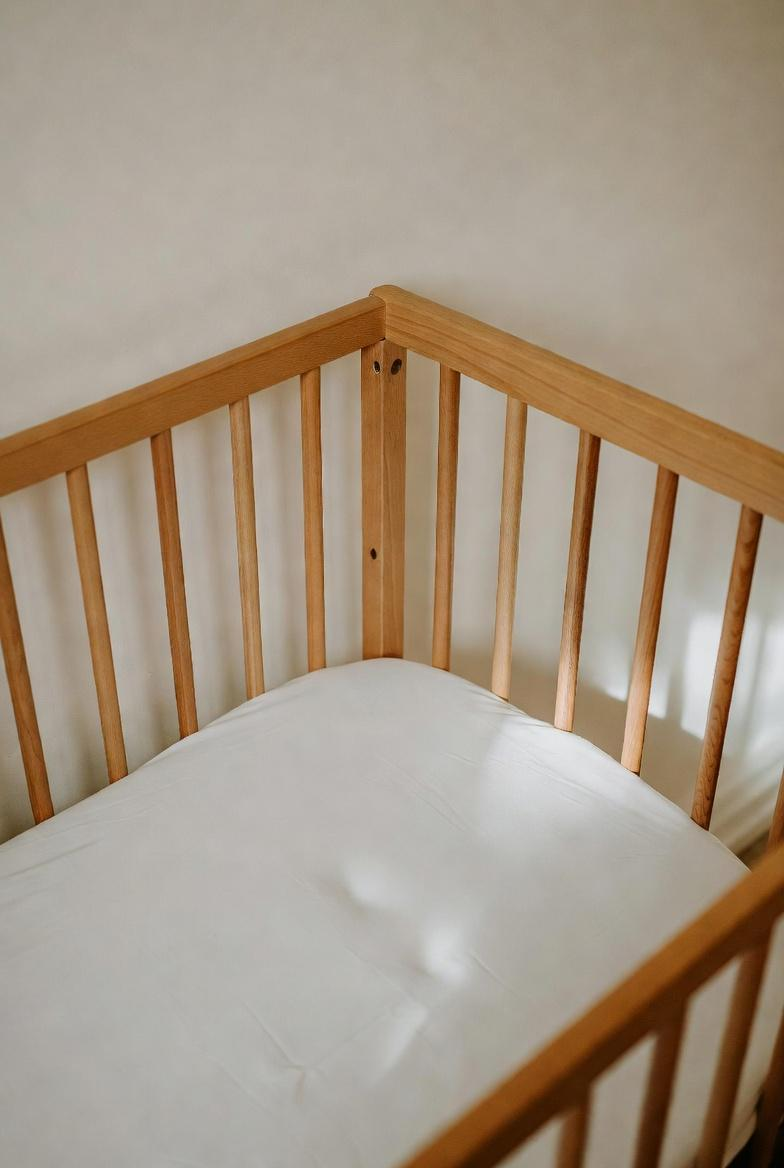crib: (0, 287, 784, 1168)
